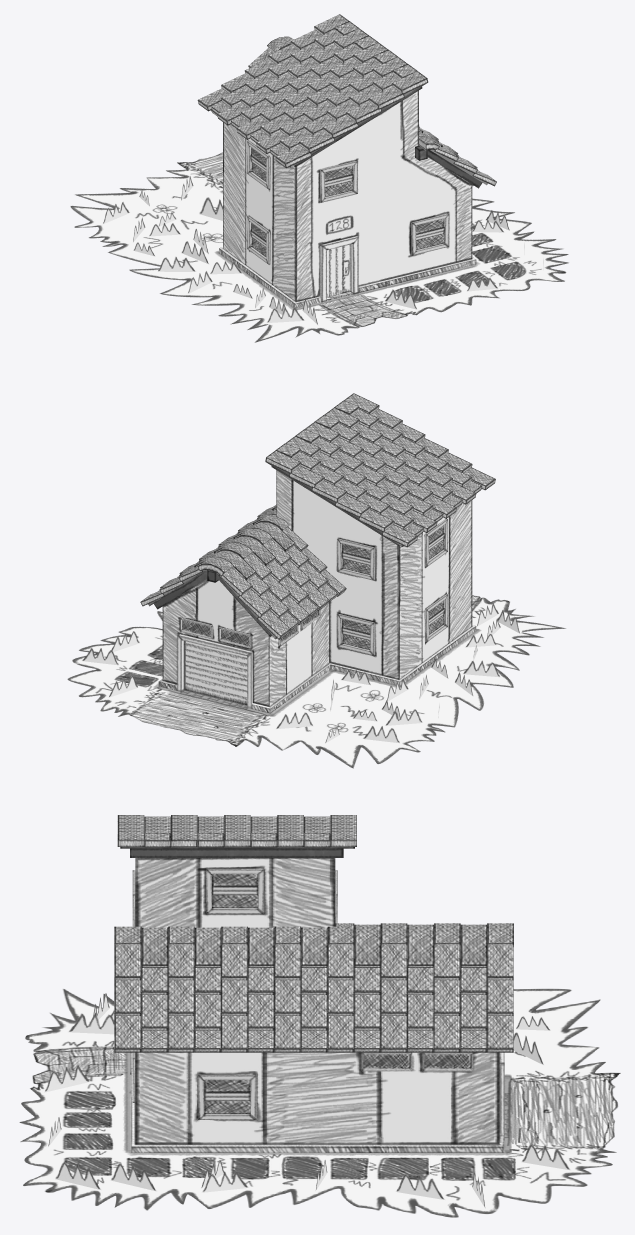
The model's file is house_sketch.glb.
The picture shows the model from 3 angles, top to bottom: view 1: azimuth 30°, elevation 25°; view 2: azimuth 150°, elevation 25°; view 3: azimuth 270°, elevation 25°; orthographic projection. The views are drawn at different scales.
Visible parts, largest first — view 1: house_mesh; view 2: house_mesh; view 3: house_mesh.
Boxes of the visible parts, x1,y1,x2,y2 form: house_mesh: (70, 14, 568, 342); house_mesh: (67, 393, 565, 768); house_mesh: (19, 815, 620, 1217).
Bounding box in the file's own units: 4.03 × 2.03 × 4.03.
Materials: 2 (2 with a texture image).
